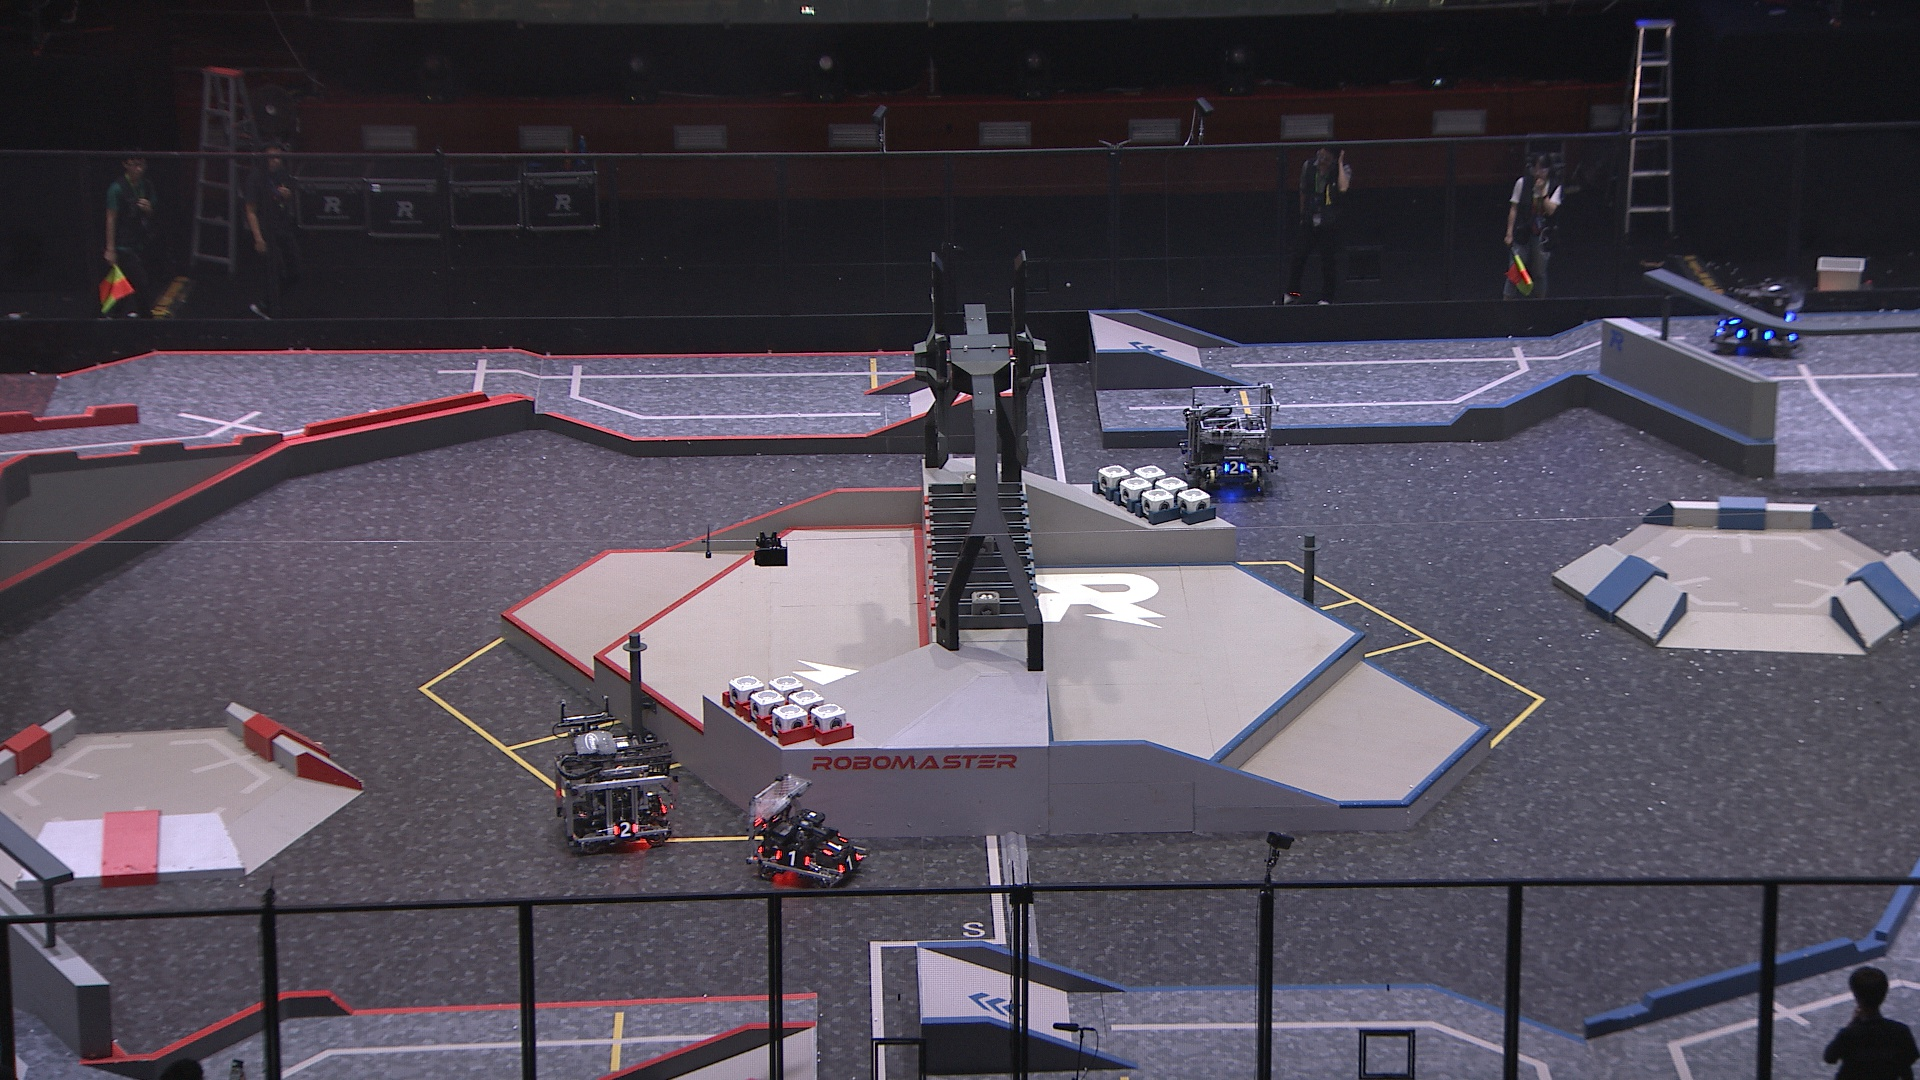armor: (774, 851, 814, 869), (1735, 324, 1774, 342), (836, 851, 860, 873), (612, 822, 640, 840), (822, 837, 849, 856), (1221, 458, 1247, 476)
car: (551, 717, 680, 856), (745, 775, 866, 889), (1178, 382, 1276, 496), (1706, 273, 1807, 357)
